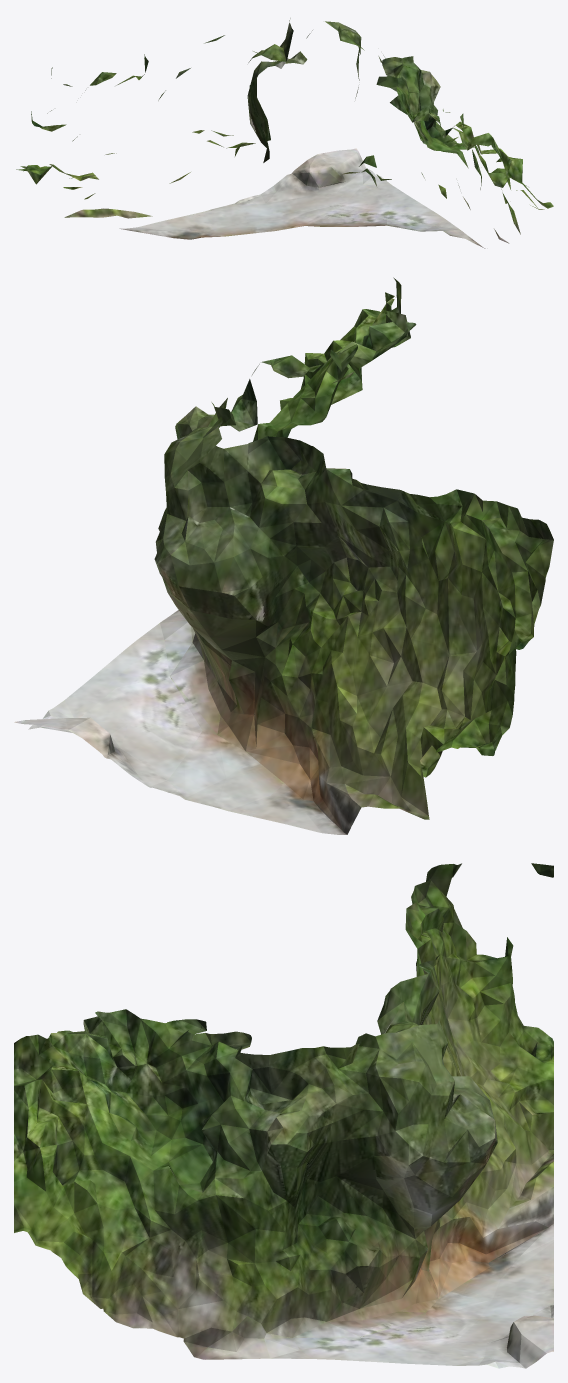
The picture shows the model from 3 angles, top to bottom: view 1: azimuth 30°, elevation 25°; view 2: azimuth 150°, elevation 25°; view 3: azimuth 270°, elevation 25°; orthographic projection. The views are drawn at different scales.
Size of the model in its own units: 26.11 by 15.89 by 26.11.
3 materials, 3 textured.
